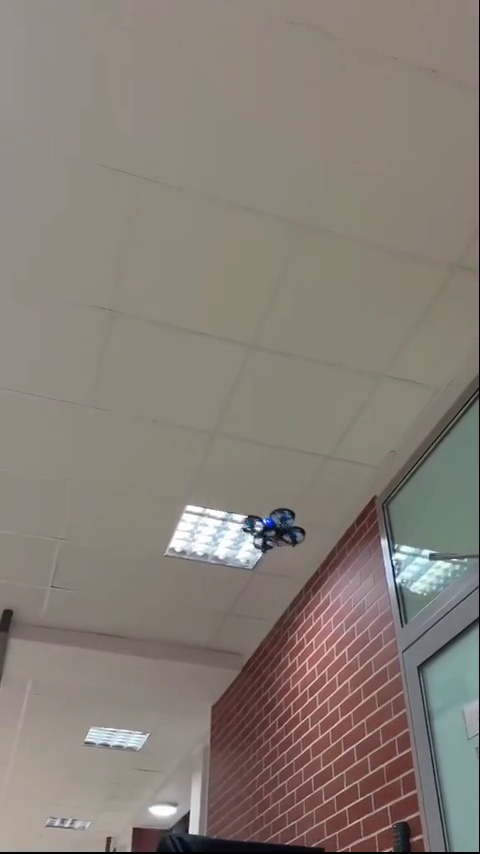drone: (240, 503, 306, 550)
